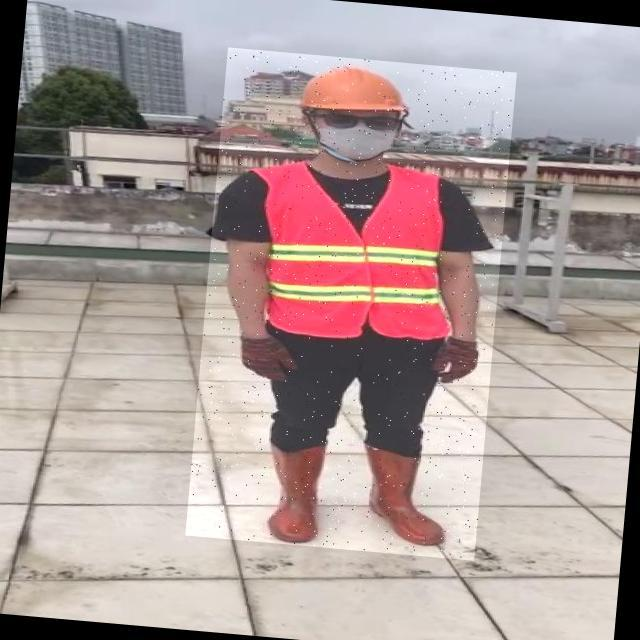Gloves: (235, 332, 301, 384), (432, 337, 479, 385)
Helmet: (295, 62, 410, 119)
Human: (185, 48, 517, 561)
Safety Boot: (361, 442, 453, 548), (260, 441, 327, 544)
Safety Vest: (248, 156, 461, 346)
